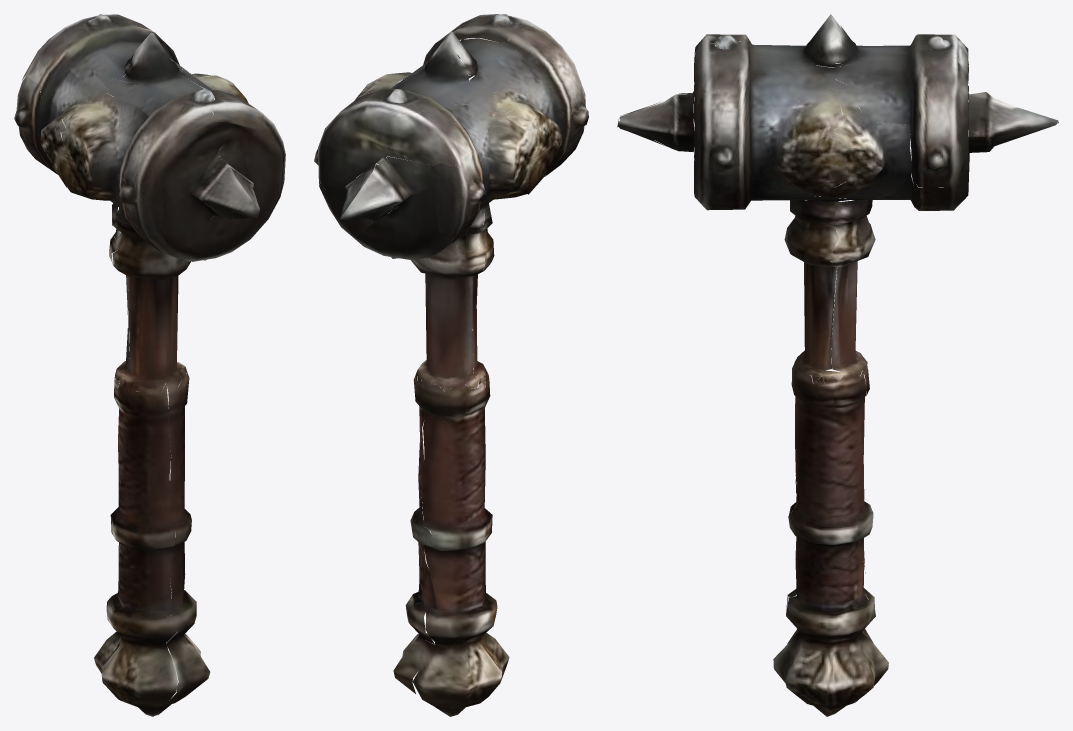
File: war_hammer.glb
3 renders of one model, left to right at view 1: azimuth 30°, elevation 25°; view 2: azimuth 150°, elevation 25°; view 3: azimuth 270°, elevation 25°, orthographic. The views are drawn at different scales.
Visible parts, largest first — view 1: war_hammer; view 2: war_hammer; view 3: war_hammer.
Boxes of the visible parts, x1=… form: war_hammer: x1=14, y1=14, x2=285, y2=716; war_hammer: x1=314, y1=14, x2=588, y2=716; war_hammer: x1=617, y1=14, x2=1058, y2=716.
Bounding box in the file's own units: 0.1912 × 0.7213 × 0.4119.
Materials: 1 (1 with a texture image).
